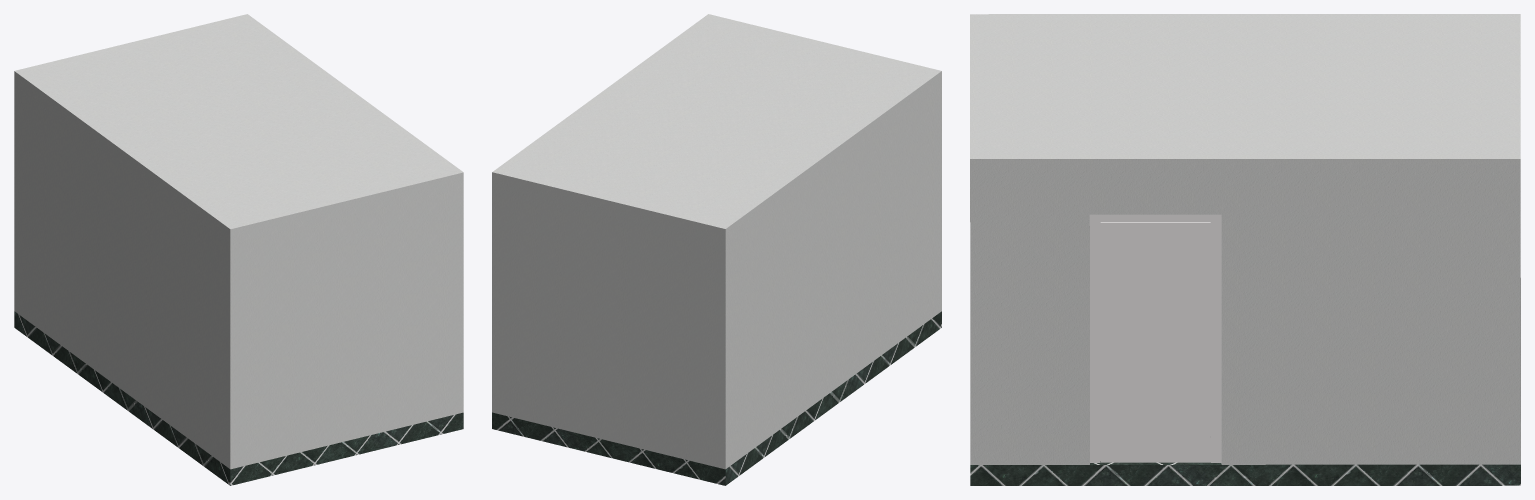
File: FloorPlan424_physics.fbx
3 views of the same model, side by side, from view 1: azimuth 30°, elevation 25°; view 2: azimuth 150°, elevation 25°; view 3: azimuth 270°, elevation 25° (orthographic). The views are drawn at different scales.
Visible parts, largest first — view 1: FP424:Walls, FP424:Ceiling, FP424:Floor; view 2: FP424:Walls, FP424:Ceiling, FP424:Floor; view 3: FP424:Walls, FP424:Ceiling, FP424:Door.020, FP424:Floor, FP424:DoorFrame.020.
Part boxes in pixels (left/top/right/bottom): FP424:Walls: left=14, top=86, right=463, bottom=469; FP424:Ceiling: left=14, top=14, right=463, bottom=245; FP424:Floor: left=14, top=311, right=463, bottom=485; FP424:Walls: left=492, top=86, right=941, bottom=469; FP424:Ceiling: left=492, top=14, right=941, bottom=245; FP424:Floor: left=492, top=311, right=941, bottom=485; FP424:Walls: left=970, top=178, right=1520, bottom=464; FP424:Ceiling: left=970, top=14, right=1520, bottom=180; FP424:Door.020: left=1100, top=222, right=1210, bottom=462; FP424:Floor: left=970, top=461, right=1520, bottom=485; FP424:DoorFrame.020: left=1089, top=214, right=1221, bottom=462.
Size of the model in its own units: 260 by 274 by 418.
